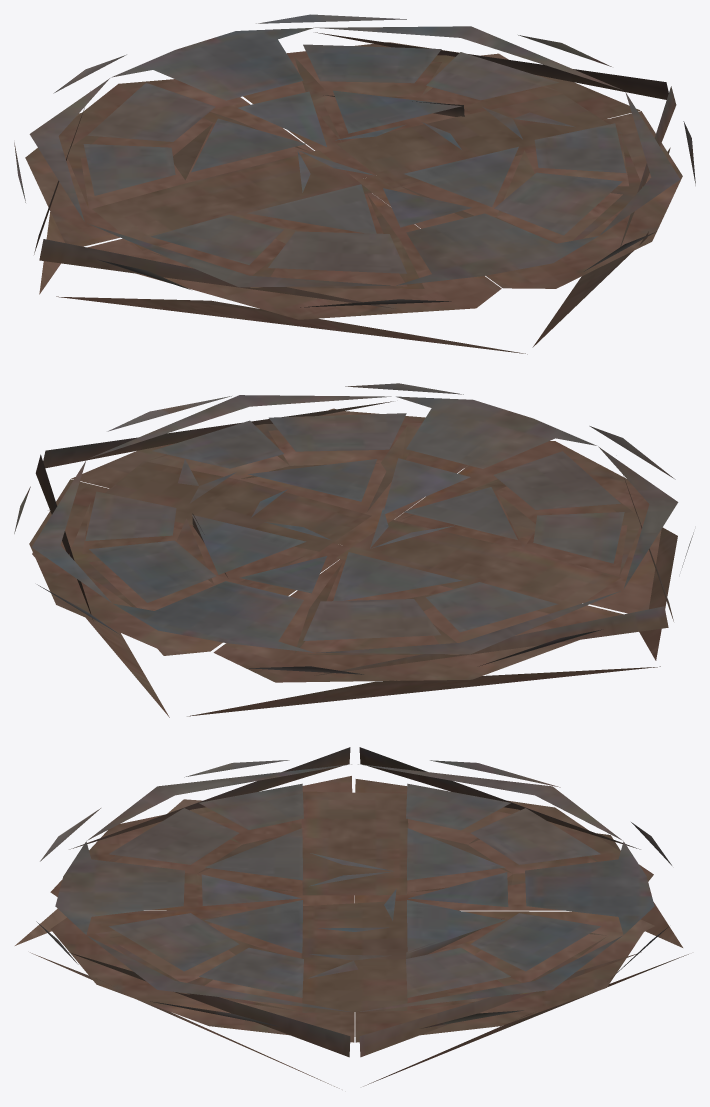
Rendered from water_manhole_cover.glb.
3 renders of one model, top to bottom at view 1: azimuth 30°, elevation 25°; view 2: azimuth 150°, elevation 25°; view 3: azimuth 270°, elevation 25°, orthographic. The views are drawn at different scales.
Visible parts, largest first — view 1: water_manhole_cover, water_manhole_cover_frame; view 2: water_manhole_cover, water_manhole_cover_frame; view 3: water_manhole_cover, water_manhole_cover_frame.
Part boxes in pixels (x1,y1,x2,y2): water_manhole_cover: (25, 26, 682, 319); water_manhole_cover_frame: (14, 14, 695, 354); water_manhole_cover: (29, 395, 678, 682); water_manhole_cover_frame: (14, 383, 693, 717); water_manhole_cover: (50, 747, 654, 1057); water_manhole_cover_frame: (15, 760, 688, 1088).
Bounding box in the file's own units: 0.6867 × 0.0673 × 0.674.
Materials: 1 (1 with a texture image).
